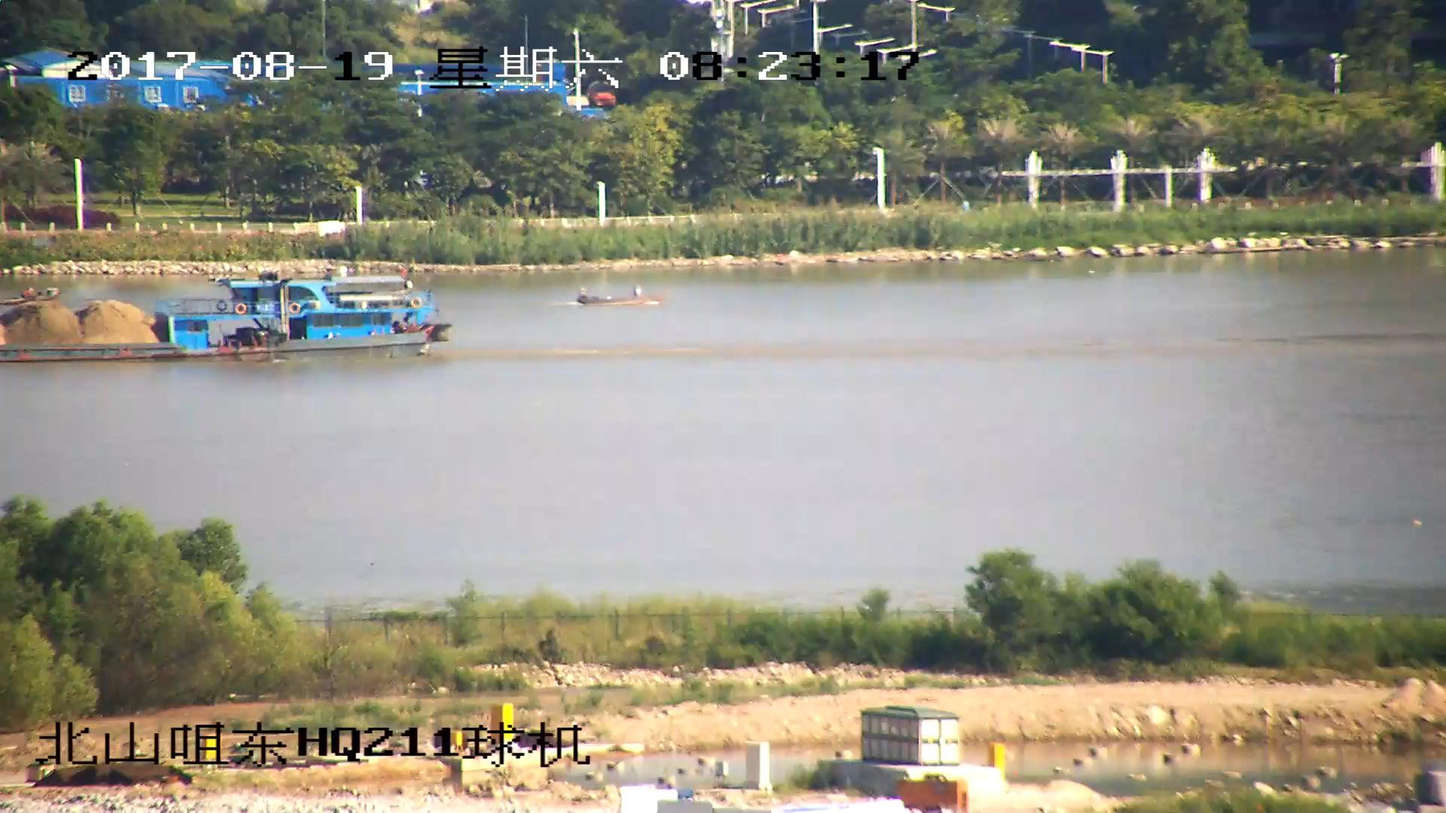fishing boat: (575, 285, 657, 307)
ore carrier: (0, 262, 449, 360)
